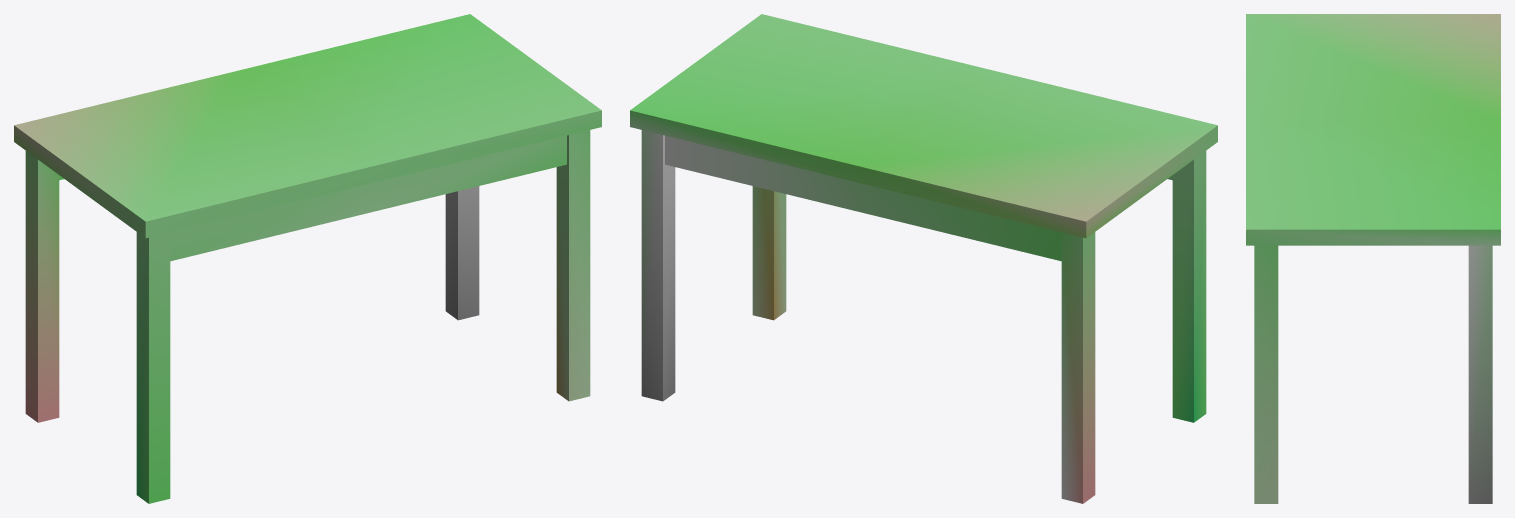
The model's file is Table_9.fbx.
3 renders of one model, left to right at view 1: azimuth 30°, elevation 25°; view 2: azimuth 150°, elevation 25°; view 3: azimuth 270°, elevation 25°, orthographic. The views are drawn at different scales.
Visible parts, largest first — view 1: Table_9; view 2: Table_9; view 3: Table_9.
Boxes of the visible parts, x1=… form: Table_9: x1=14, y1=14, x2=601, y2=503; Table_9: x1=630, y1=14, x2=1217, y2=503; Table_9: x1=1246, y1=14, x2=1500, y2=503.
Size of the model in its own units: 1.71 by 1.03 by 0.856.
